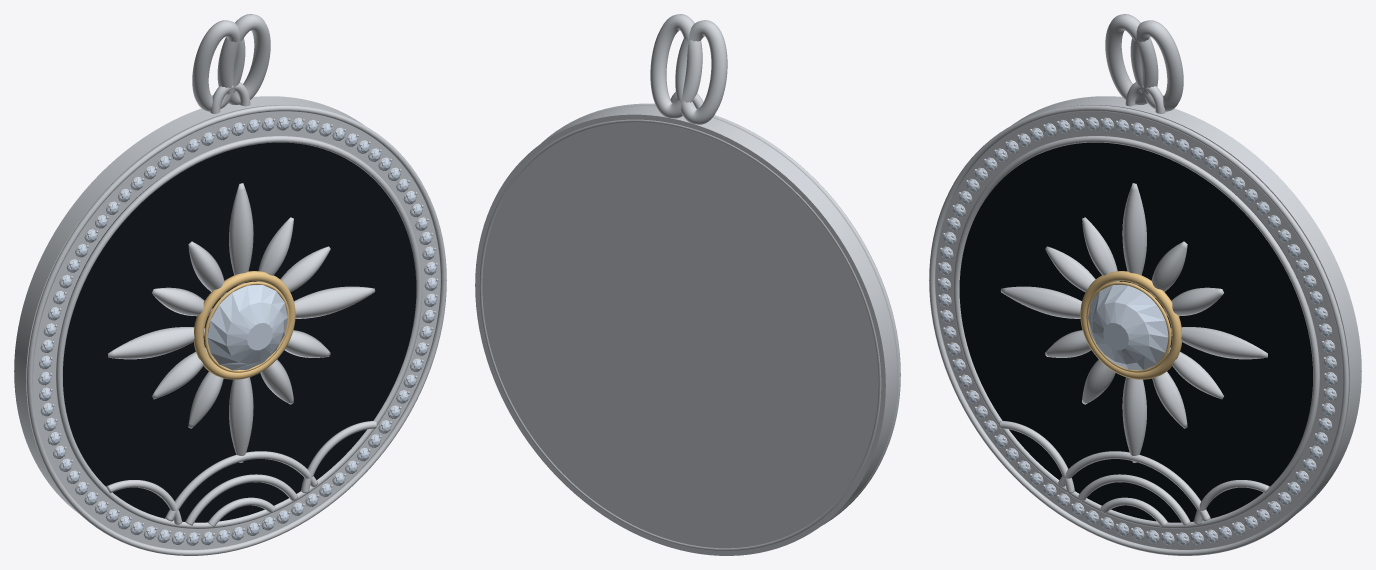
Rendered from emoria-lumen.glb.
The picture shows the model from 3 angles, left to right: view 1: azimuth 30°, elevation 25°; view 2: azimuth 150°, elevation 25°; view 3: azimuth 330°, elevation 25°; orthographic projection.
Visible parts, largest first — view 1: Onyx enamel, Polished silver, Brilliant crystal, Warm gold; view 2: Polished silver; view 3: Onyx enamel, Polished silver, Brilliant crystal, Warm gold.
Boxes of the visible parts, x1=… form: Onyx enamel: x1=63, y1=142, x2=416, y2=522; Polished silver: x1=14, y1=14, x2=446, y2=555; Brilliant crystal: x1=39, y1=118, x2=437, y2=545; Warm gold: x1=194, y1=271, x2=295, y2=379; Polished silver: x1=475, y1=14, x2=900, y2=555; Onyx enamel: x1=959, y1=142, x2=1312, y2=522; Polished silver: x1=929, y1=14, x2=1361, y2=555; Brilliant crystal: x1=938, y1=118, x2=1336, y2=545; Warm gold: x1=1080, y1=271, x2=1181, y2=379.
Size of the model in its own units: 0.0281 by 0.0341 by 0.00439.
